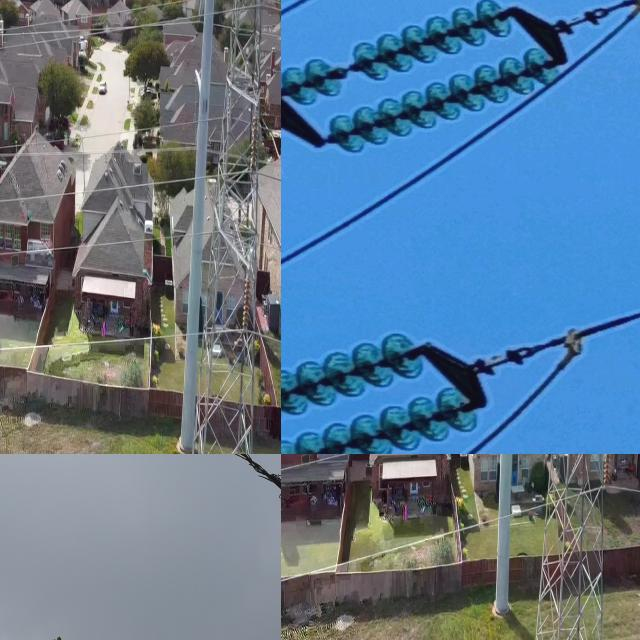杆塔: (192, 0, 266, 454), (530, 454, 611, 640)
正常电缆: (281, 500, 545, 585)
正常绝缘子: (309, 37, 581, 165), (281, 0, 527, 114), (281, 324, 441, 422), (281, 380, 491, 454), (238, 264, 253, 340), (248, 106, 259, 177), (602, 454, 612, 487)
绝缘子破损: (336, 62, 356, 81)
